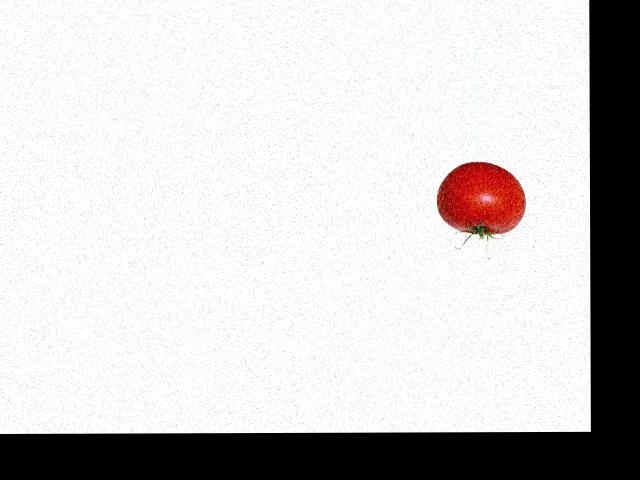tomato: (437, 161, 527, 235)
